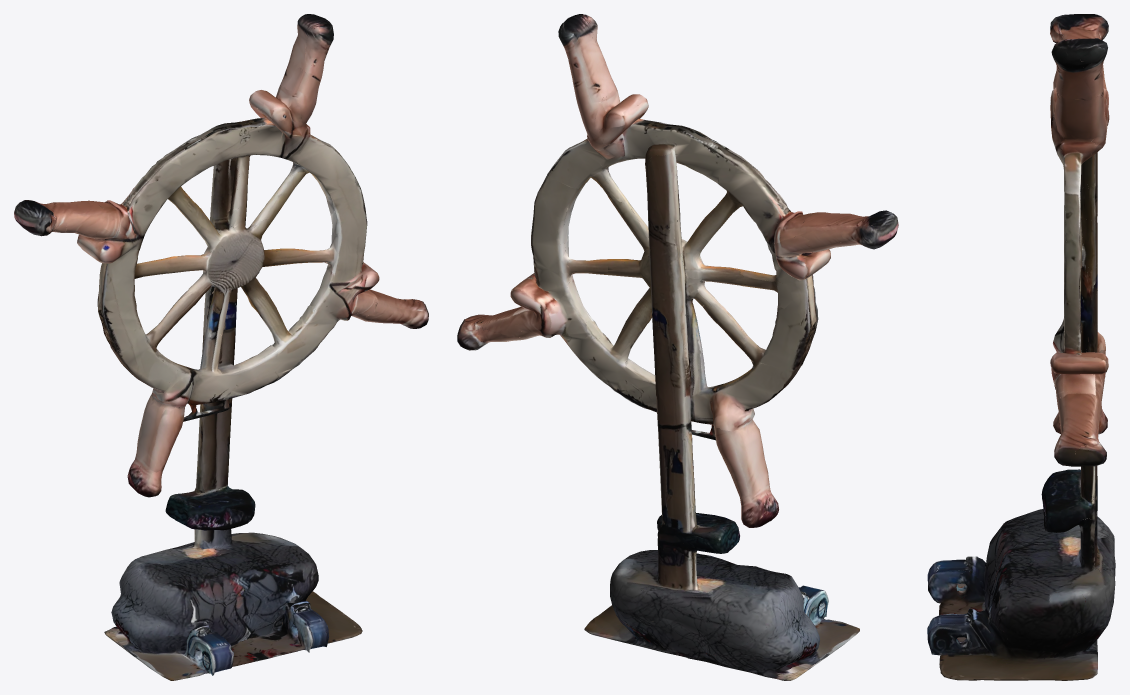
3 renders of one model, left to right at view 1: azimuth 30°, elevation 25°; view 2: azimuth 150°, elevation 25°; view 3: azimuth 270°, elevation 25°, orthographic. The views are drawn at different scales.
Parts seen in each view (by area): view 1: geometry_0; view 2: geometry_0; view 3: geometry_0.
Boxes of the visible parts, bbox=[...] form: geometry_0: bbox=[14, 14, 428, 680]; geometry_0: bbox=[457, 14, 898, 680]; geometry_0: bbox=[927, 14, 1115, 680].
Bounding box in the file's own units: 1.41 × 1.9 × 0.5004.
1 material, 1 textured.
